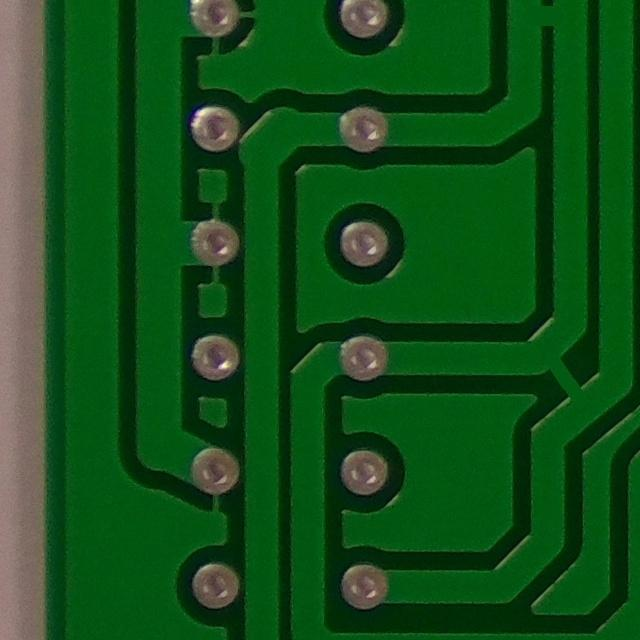short: (502, 308, 619, 424), (497, 0, 595, 75)
